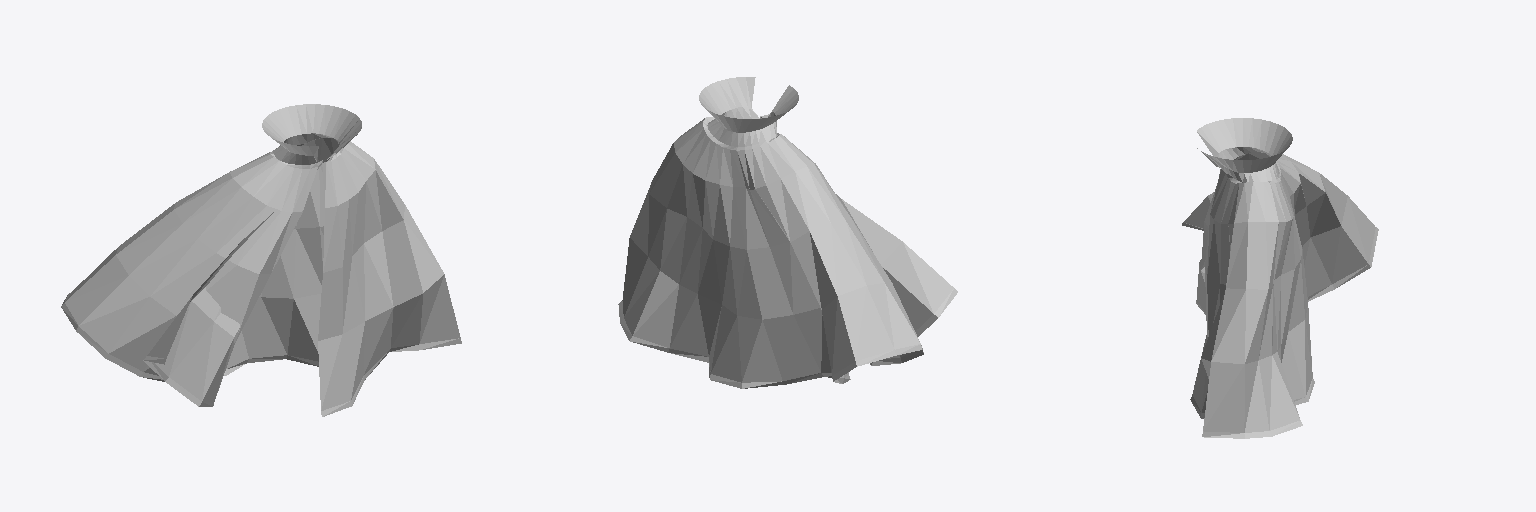
The model's file is cape.obj.
3 views of the same model, side by side, from view 1: azimuth 30°, elevation 25°; view 2: azimuth 150°, elevation 25°; view 3: azimuth 270°, elevation 25° (orthographic).
Parts seen in each view (by area): view 1: Circle; view 2: Circle; view 3: Circle.
Part boxes in pixels (bbox=[...]): Circle: bbox=[61, 104, 461, 416]; Circle: bbox=[618, 77, 957, 388]; Circle: bbox=[1182, 118, 1378, 438].
Size of the model in its own units: 1.64 by 1.27 by 0.8407.